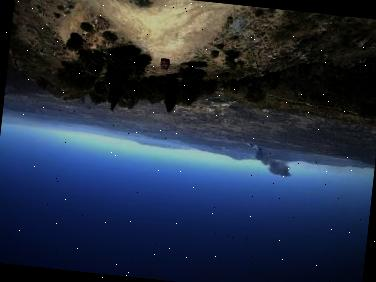smoke: (240, 143, 295, 180)
